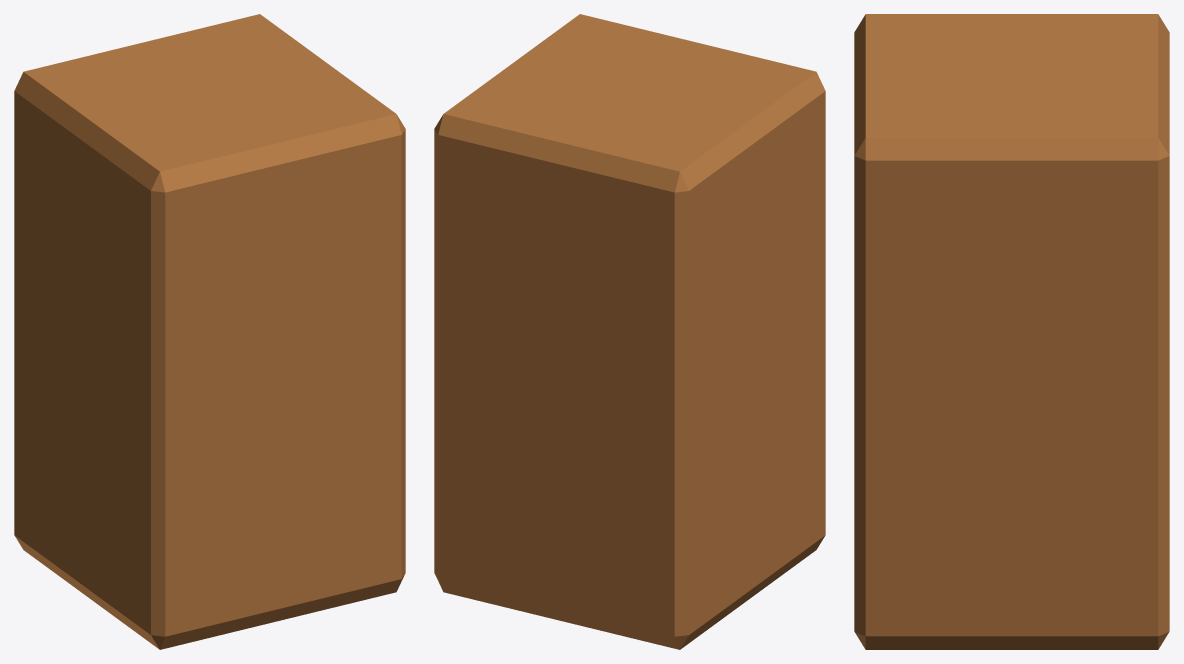
3 renders of one model, left to right at view 1: azimuth 30°, elevation 25°; view 2: azimuth 150°, elevation 25°; view 3: azimuth 270°, elevation 25°, orthographic. The views are drawn at different scales.
Visible parts, largest first — view 1: box6; view 2: box6; view 3: box6.
Boxes of the visible parts, left/top/right/bottom form: box6: left=14, top=14, right=405, bottom=649; box6: left=434, top=14, right=825, bottom=649; box6: left=854, top=14, right=1169, bottom=649.
Bounding box in the file's own units: 139 × 250 × 139.
